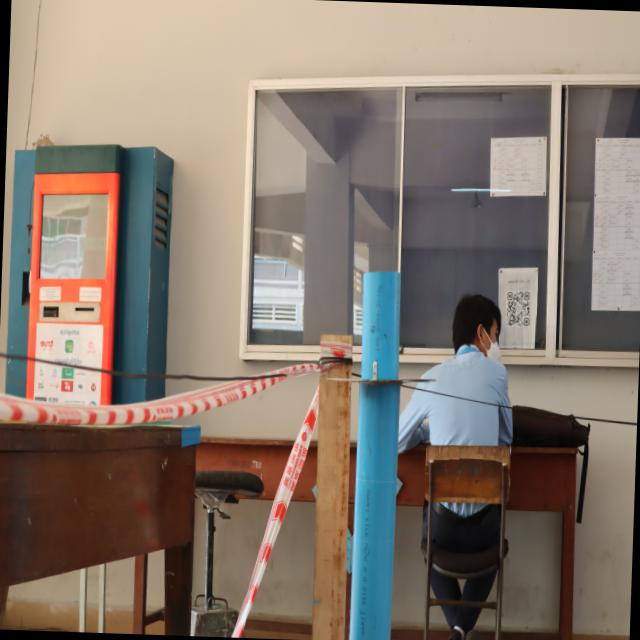pole: (328, 255, 438, 491)
